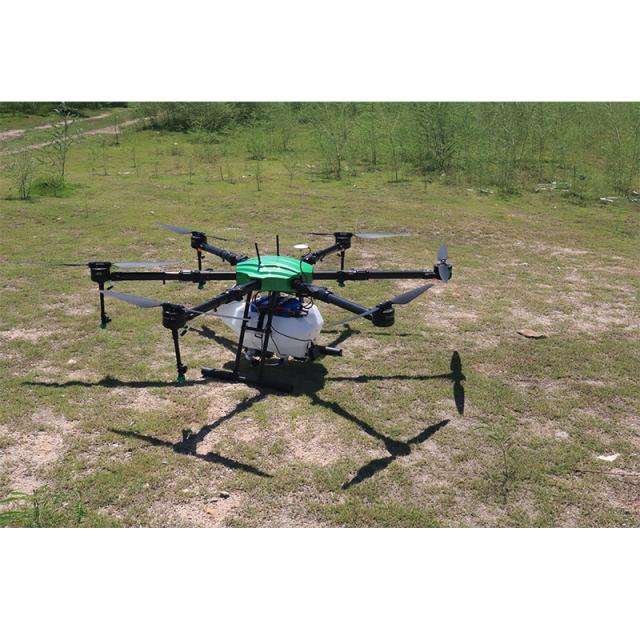drone: (27, 185, 516, 425)
